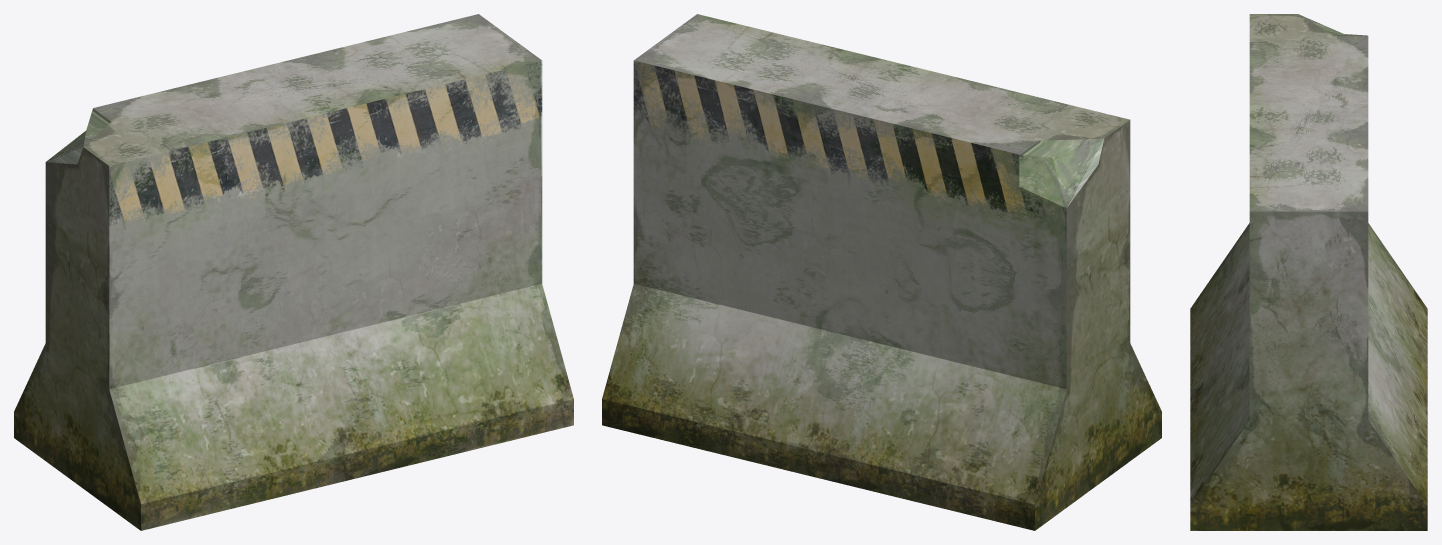
File: Road_Blockage.fbx
3 views of the same model, side by side, from view 1: azimuth 30°, elevation 25°; view 2: azimuth 150°, elevation 25°; view 3: azimuth 270°, elevation 25° (orthographic). The views are drawn at different scales.
Parts seen in each view (by area): view 1: Cube; view 2: Cube; view 3: Cube.
Boxes of the visible parts, x1,y1,x2,y2 form: Cube: (14,14,573,530); Cube: (602,14,1161,530); Cube: (1190,14,1427,530).
Size of the model in its own units: 100 by 75.4 by 50.8.
Materials: 1 (1 with a texture image).
